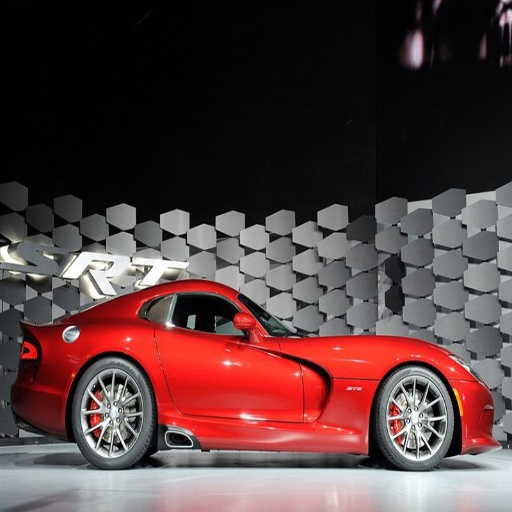back_right_door: (147, 289, 207, 410)
